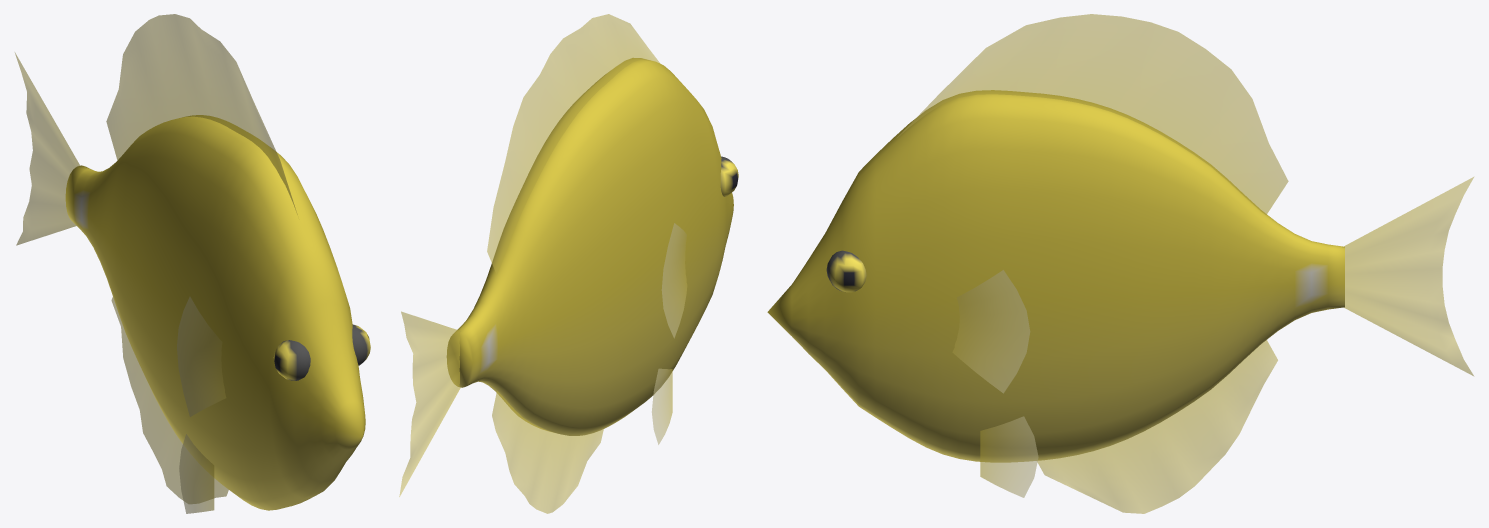
Rendered from fish_yellow_tang.glb.
3 renders of one model, left to right at view 1: azimuth 30°, elevation 25°; view 2: azimuth 150°, elevation 25°; view 3: azimuth 270°, elevation 25°, orthographic. The views are drawn at different scales.
Parts seen in each view (by area): view 1: FishYellowTang; view 2: FishYellowTang; view 3: FishYellowTang.
Boxes of the visible parts, bbox=[...] form: FishYellowTang: bbox=[15, 14, 370, 513]; FishYellowTang: bbox=[399, 14, 738, 513]; FishYellowTang: bbox=[767, 14, 1473, 513].
Size of the model in its own units: 0.0413 by 0.1698 by 0.2184.
